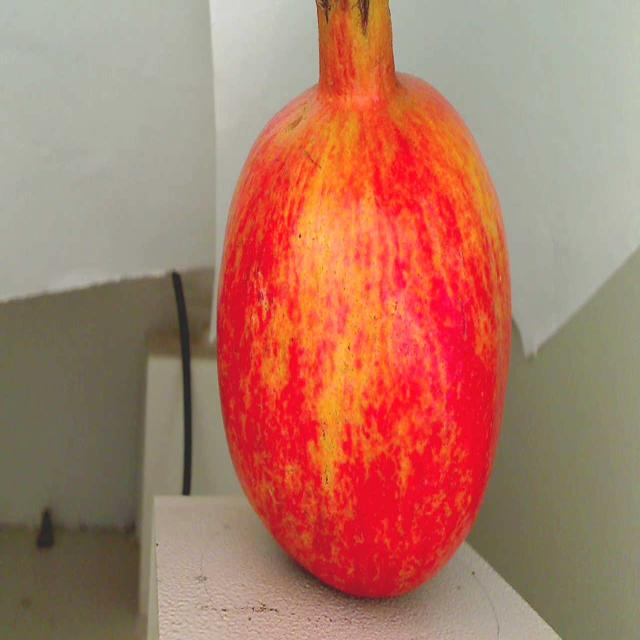pomegranate: (200, 0, 524, 612)
